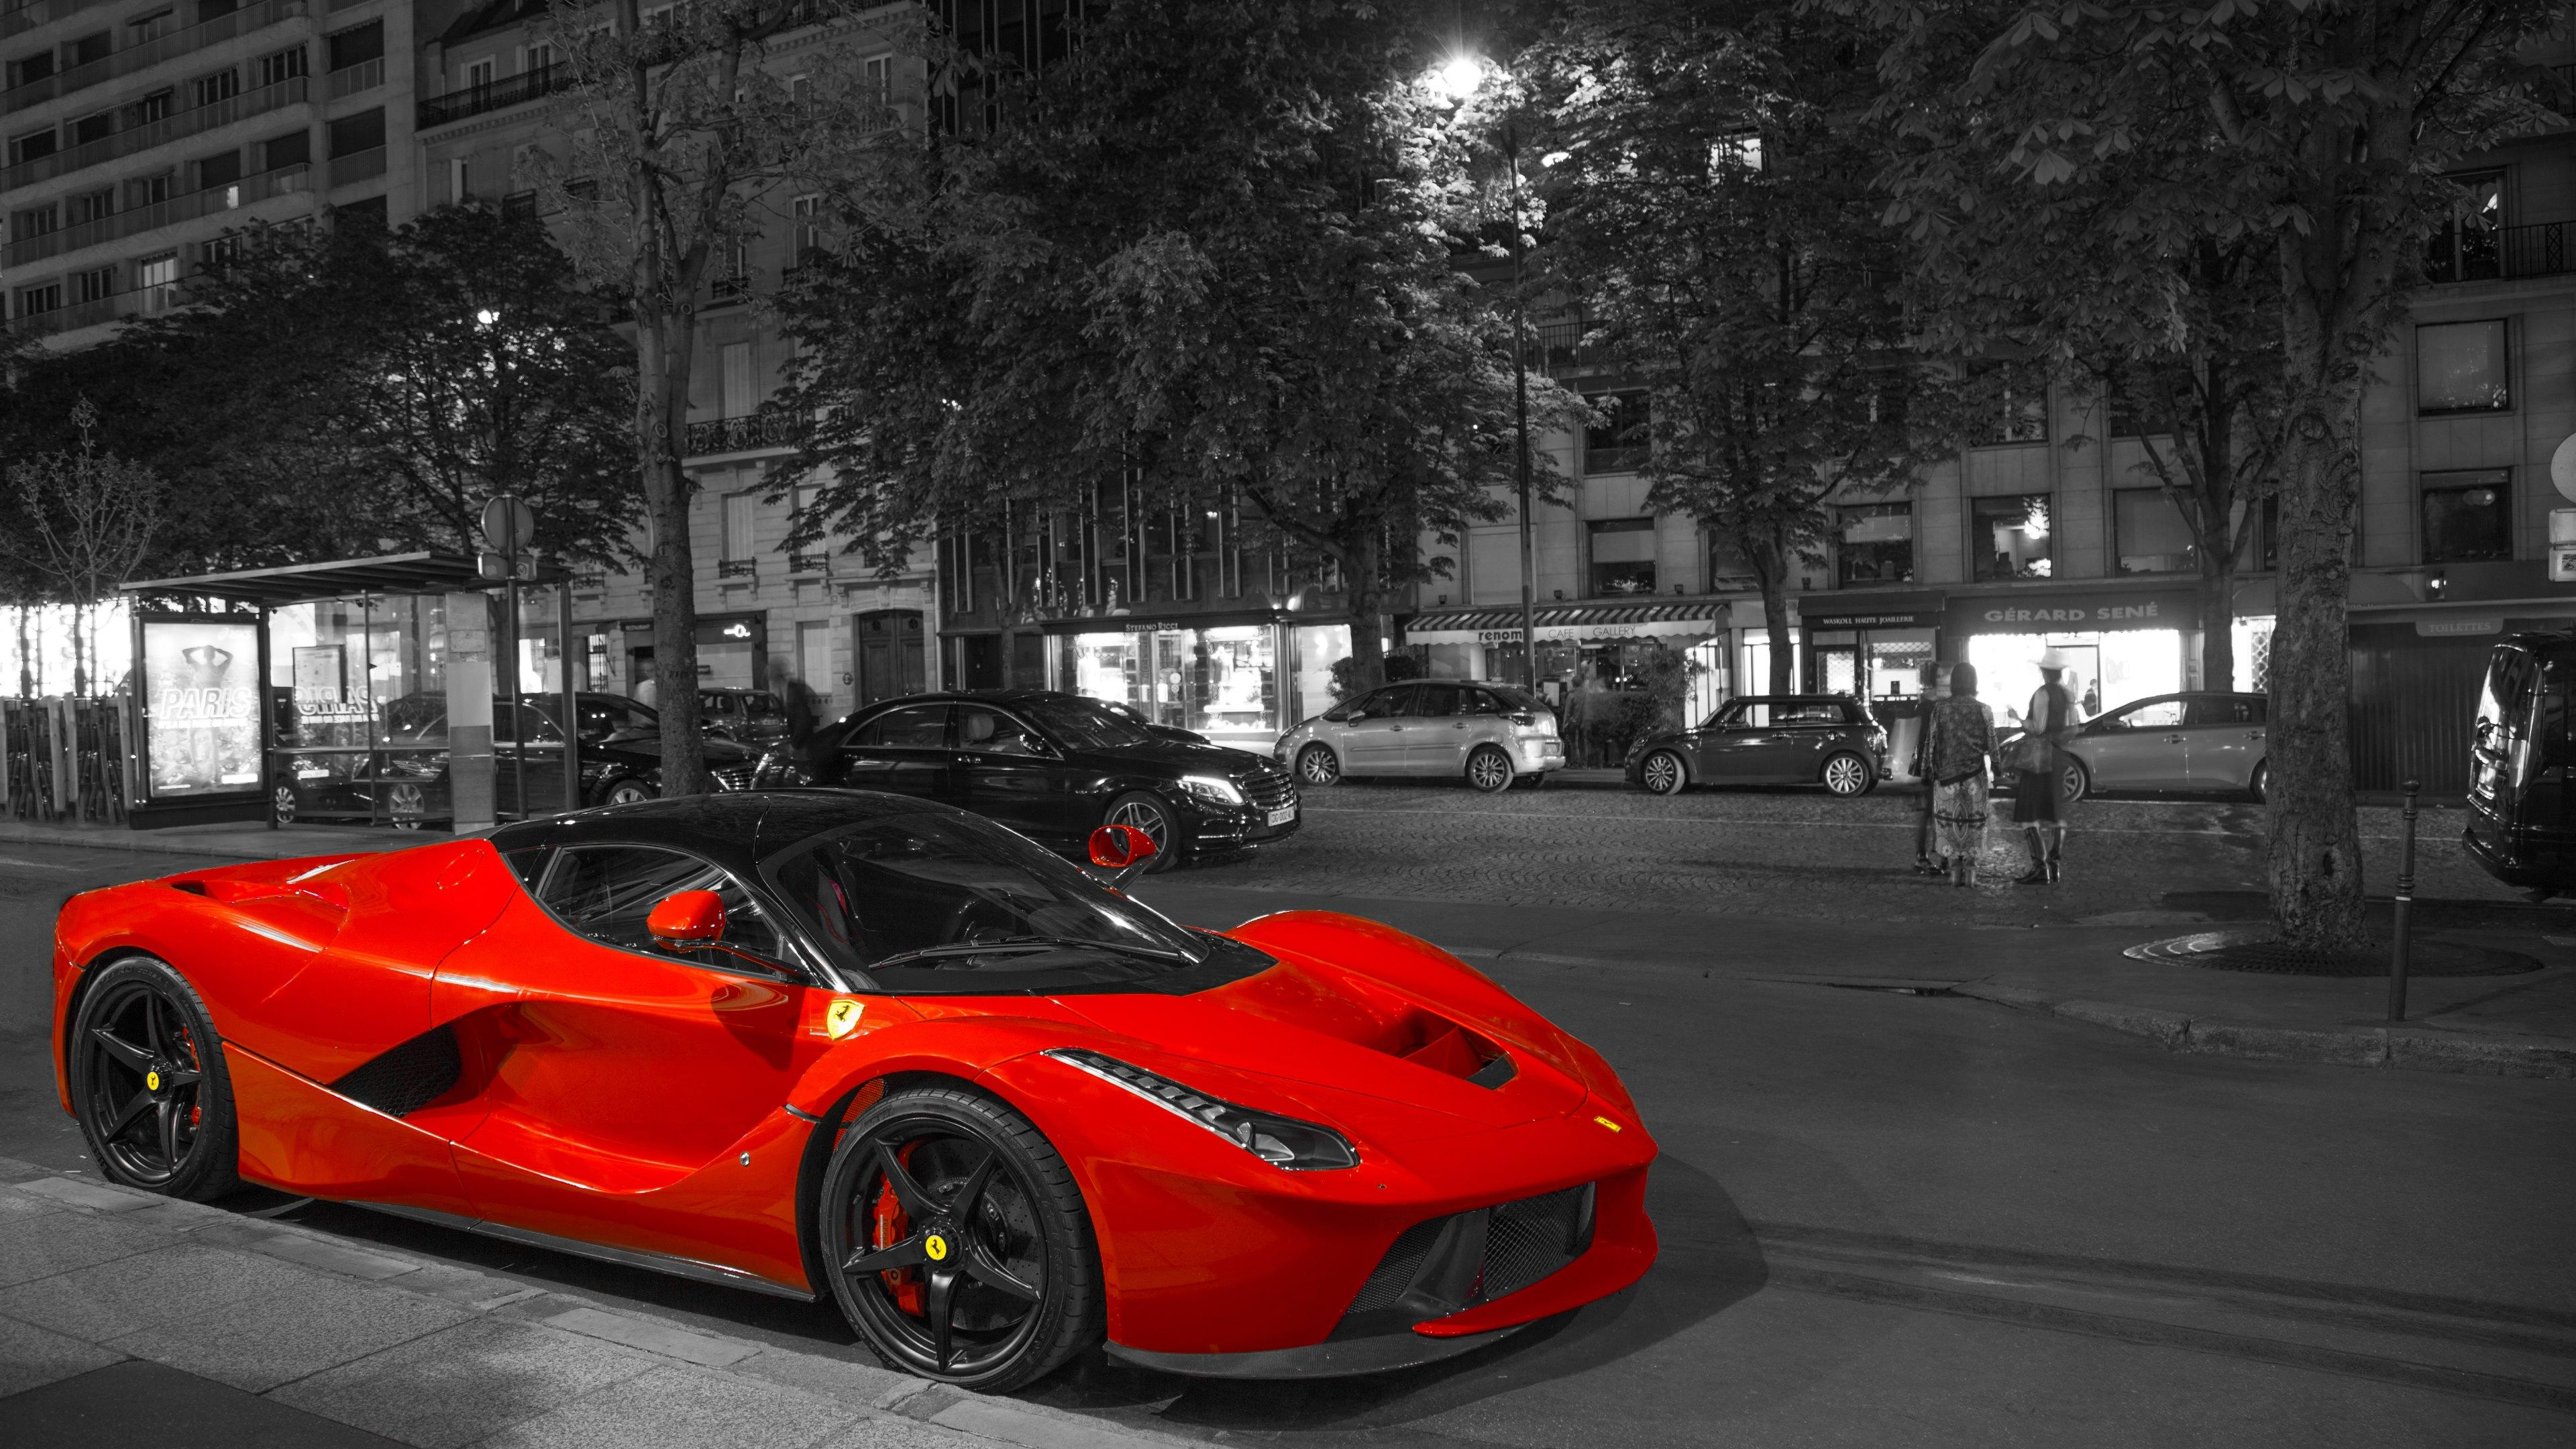Car: (0, 771, 1686, 1449), (747, 630, 1290, 846), (1270, 637, 1559, 814), (1592, 662, 1909, 816), (340, 662, 701, 794), (2415, 594, 2576, 888), (1974, 660, 2295, 791)
